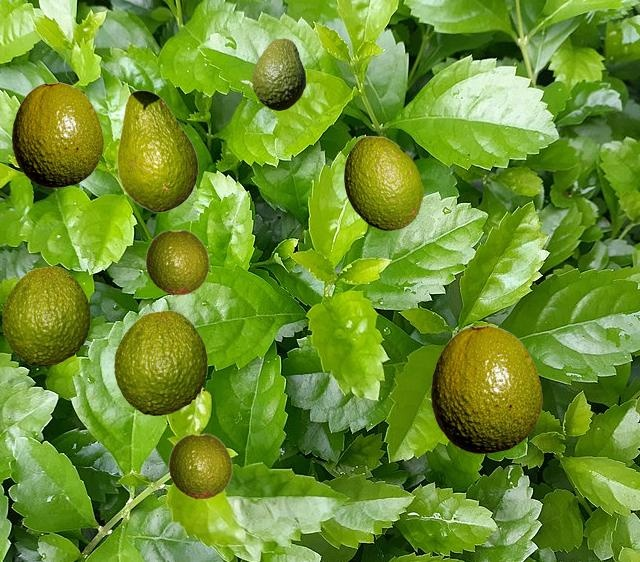avocado: (431, 325, 541, 452), (117, 90, 197, 211), (114, 310, 206, 414), (12, 82, 102, 186), (2, 266, 89, 365), (344, 136, 422, 229), (168, 433, 232, 498), (145, 229, 209, 294), (252, 38, 304, 109)
